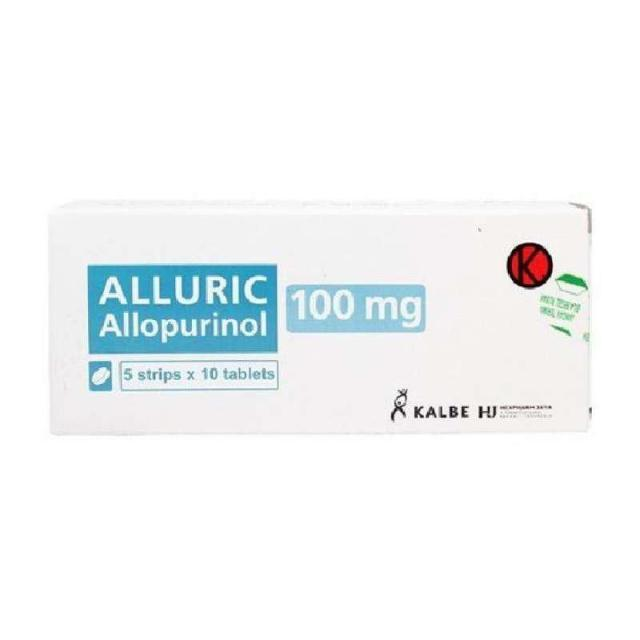drug-name: (98, 270, 274, 308)
